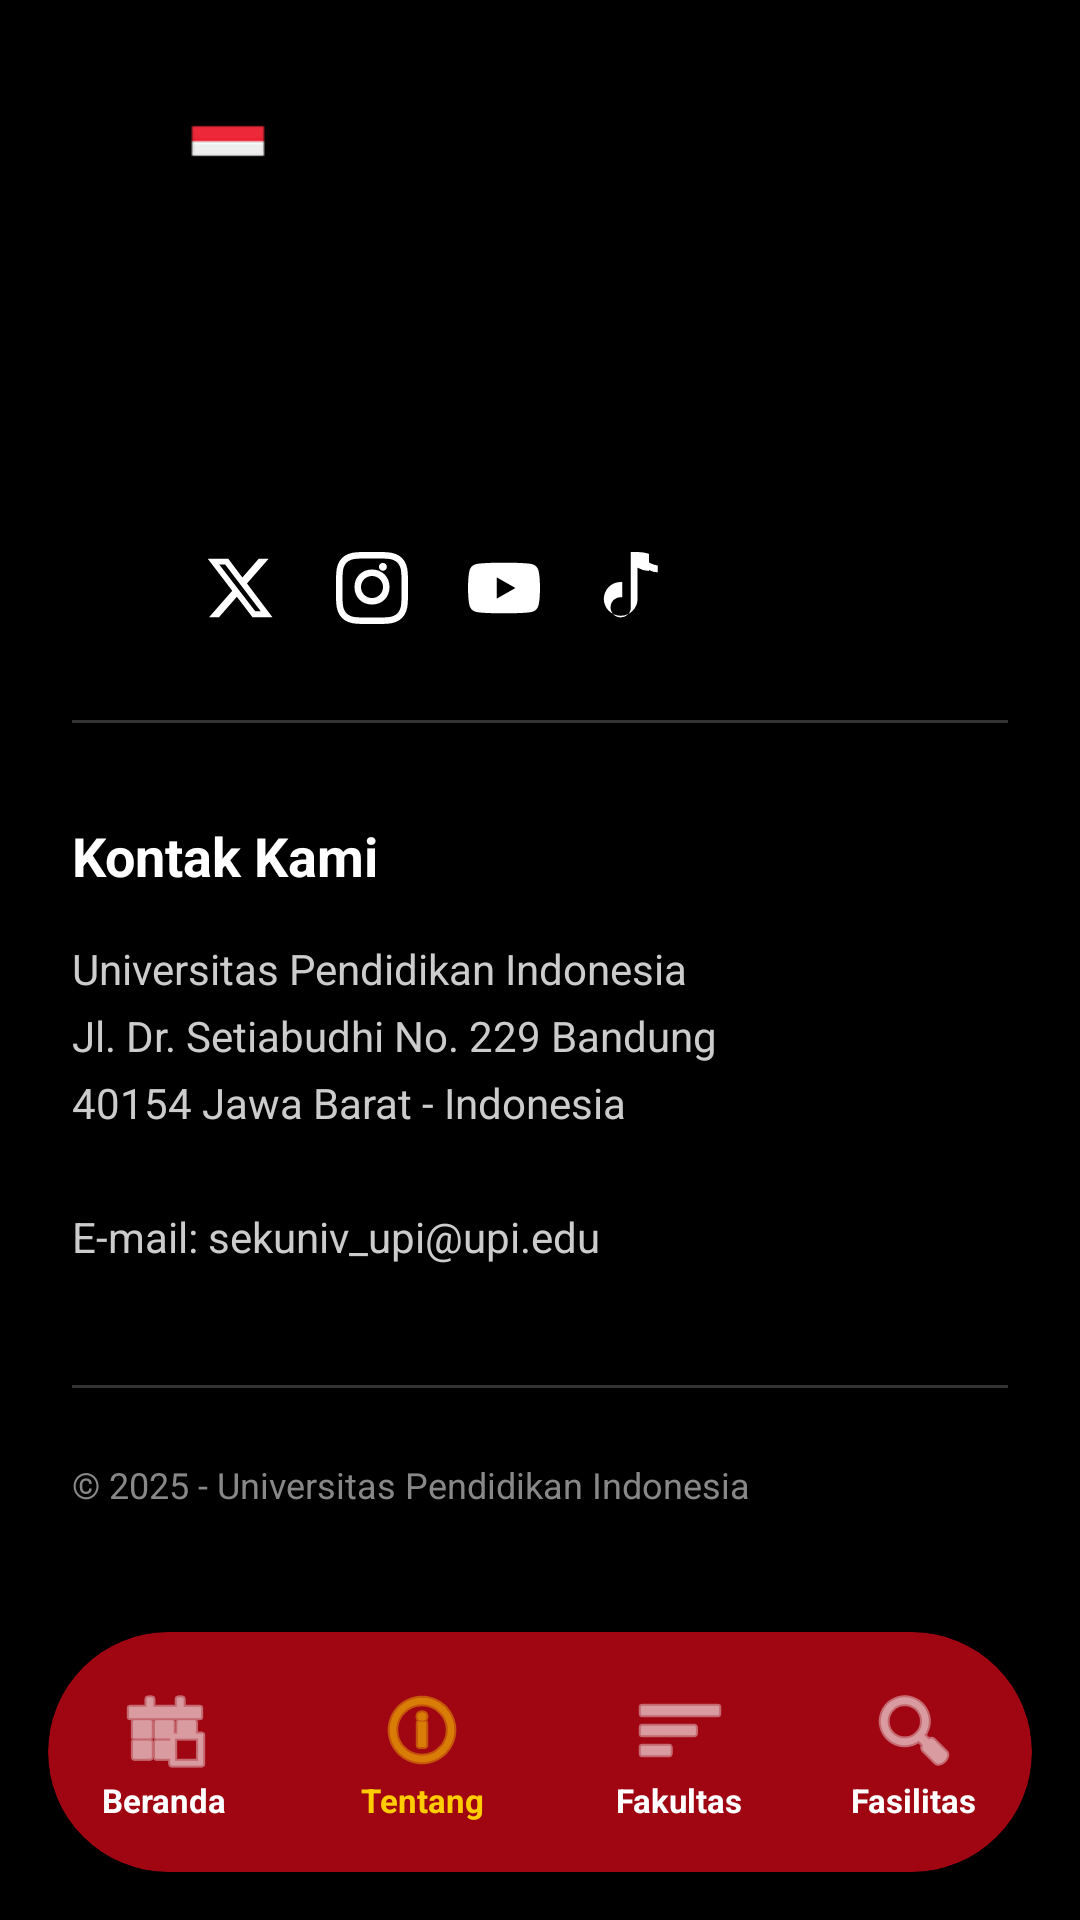

Locate icon controls on the screen. Image size 1080w x 1920h, boxes as bbox(x1, y1, x2, y2).
info details: bbox(387, 1696, 457, 1765)
search: bbox(878, 1695, 950, 1766)
sort by size: bbox(639, 1704, 721, 1757)
today: bbox(127, 1695, 205, 1768)
